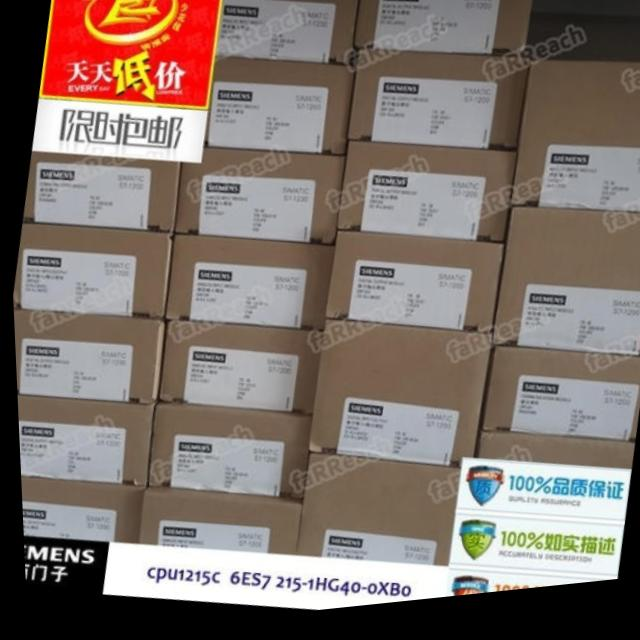box: (306, 323, 487, 476), (490, 214, 640, 367), (507, 69, 640, 224), (319, 237, 502, 343), (290, 458, 454, 575), (334, 147, 516, 252), (352, 58, 528, 161), (159, 236, 331, 337), (172, 149, 344, 249), (154, 319, 318, 421), (143, 405, 310, 505), (474, 355, 639, 453), (10, 219, 170, 319), (200, 61, 356, 162), (11, 306, 163, 407), (353, 0, 535, 70), (14, 395, 154, 486), (22, 155, 176, 234), (131, 488, 297, 561), (214, 0, 359, 70), (17, 474, 139, 544), (472, 440, 629, 482)
